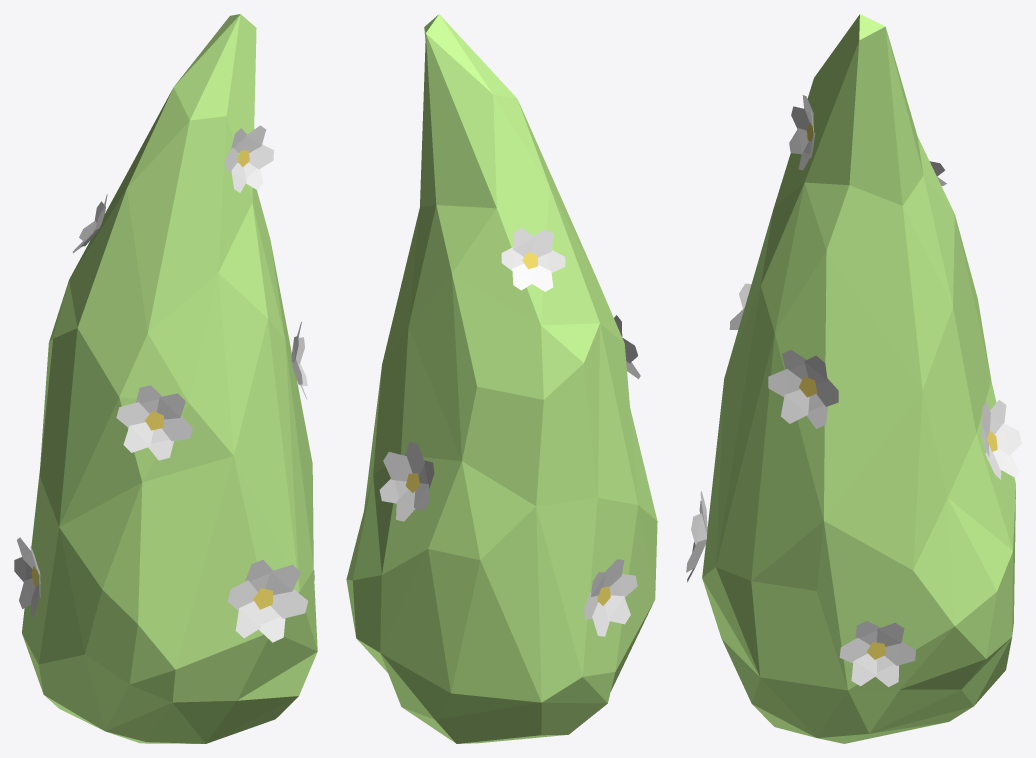
The model's file is FlowerBush_a_m_03.fbx.
3 views of the same model, side by side, from view 1: azimuth 30°, elevation 25°; view 2: azimuth 150°, elevation 25°; view 3: azimuth 270°, elevation 25° (orthographic). The views are drawn at different scales.
Visible parts, largest first — view 1: FlowerBush_a_m_03; view 2: FlowerBush_a_m_03; view 3: FlowerBush_a_m_03.
Boxes of the visible parts, x1,y1,x2,y2 form: FlowerBush_a_m_03: (14, 14, 317, 743); FlowerBush_a_m_03: (346, 14, 657, 743); FlowerBush_a_m_03: (686, 14, 1021, 743).
Bounding box in the file's own units: 126 × 318 × 130.
